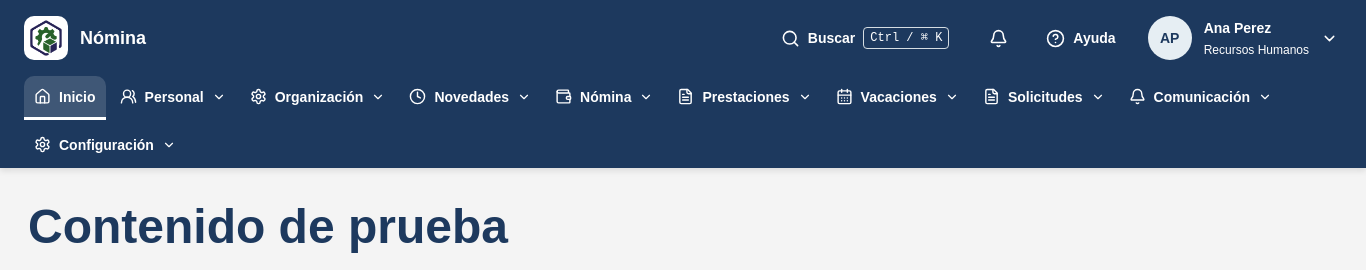
Barra y paleta del layout › muestra el nombre de presentación en el activador y el panel de cuenta
Step 1. Click the button with aria-label "Mi cuenta: Ana Perez · Recursos Humanos" → (1243, 38), box x1=1144 y1=12 x2=1342 y2=64
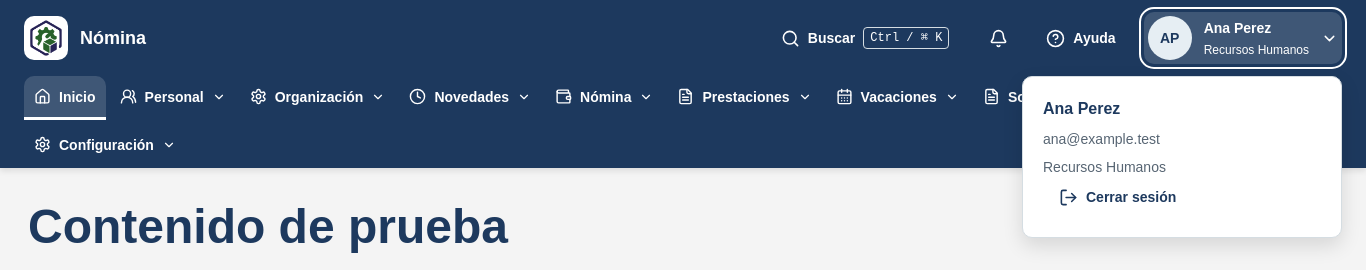
Result: the element named "Mi cuenta" shows "Ana Perez" at x1=1043 y1=100 x2=1120 y2=117
